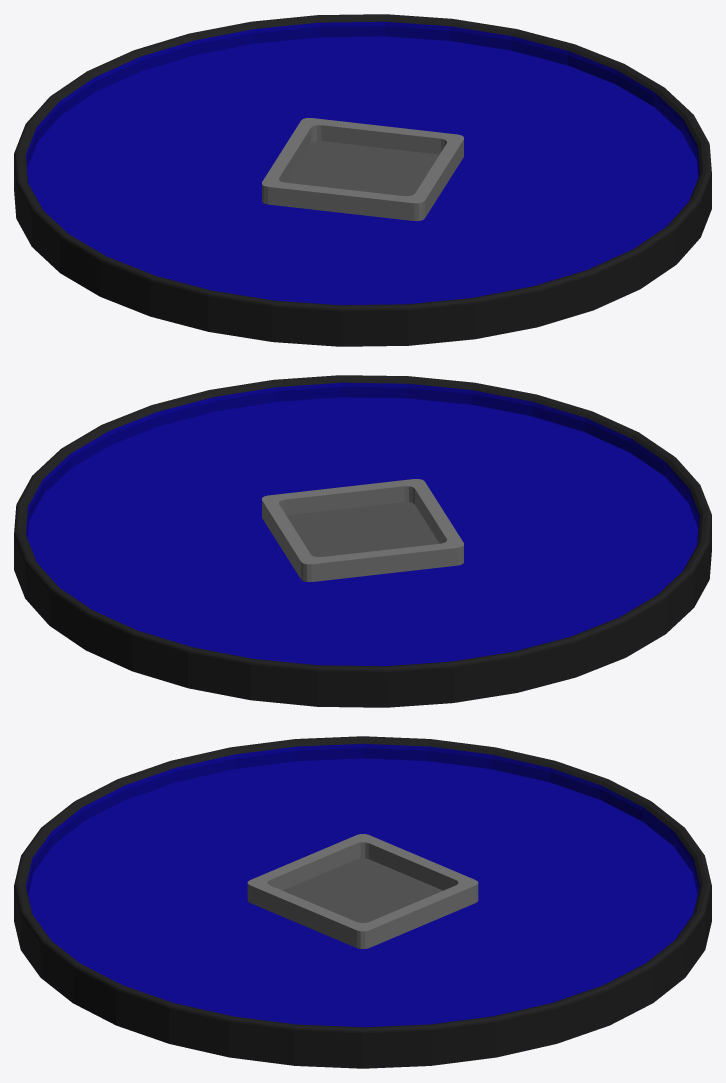
The model's file is disk.glb.
3 views of the same model, one above another, from view 1: azimuth 30°, elevation 25°; view 2: azimuth 150°, elevation 25°; view 3: azimuth 270°, elevation 25° (orthographic).
Visible parts, largest first — view 1: Cylinder, Cube, Plane; view 2: Cylinder, Cube, Plane; view 3: Cylinder, Cube, Plane.
Part boxes in pixels (box(x1,y1,x2,y2)): Cylinder: box(14, 14, 711, 346); Cube: box(262, 118, 463, 220); Plane: box(286, 141, 439, 195); Cylinder: box(14, 375, 711, 707); Cube: box(262, 479, 463, 581); Plane: box(286, 502, 439, 556); Cylinder: box(14, 736, 711, 1068); Cube: box(247, 834, 478, 948); Plane: box(283, 858, 442, 922).
Bounding box in the file's own units: 0.7079 × 0.0434 × 0.7079.
